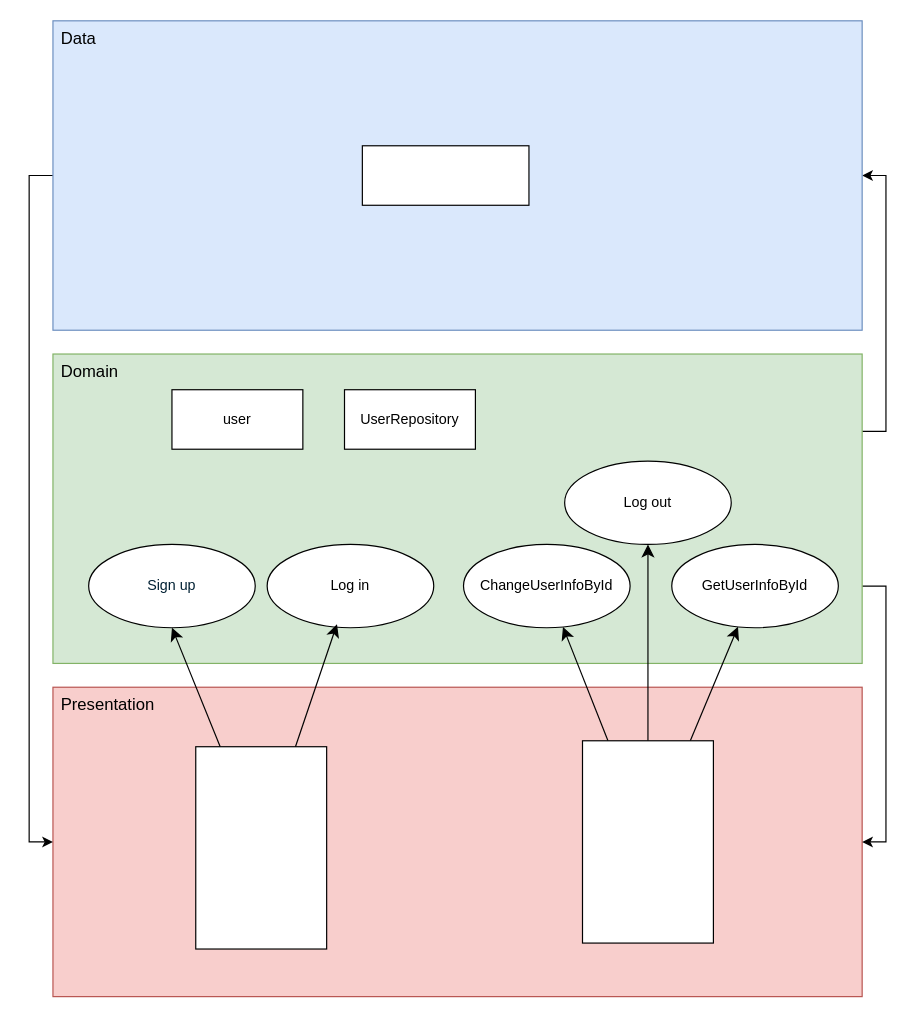
Some shapes in this 916 by 1017 pixel diagram are drawn without their labels. Each missing label, with the centre of its shape:
"UserRepositoryImpl" goes at [445,175].
"Авторизация/Регистрация" goes at [261,847].
"ЛК пользователя" goes at [647,841].
